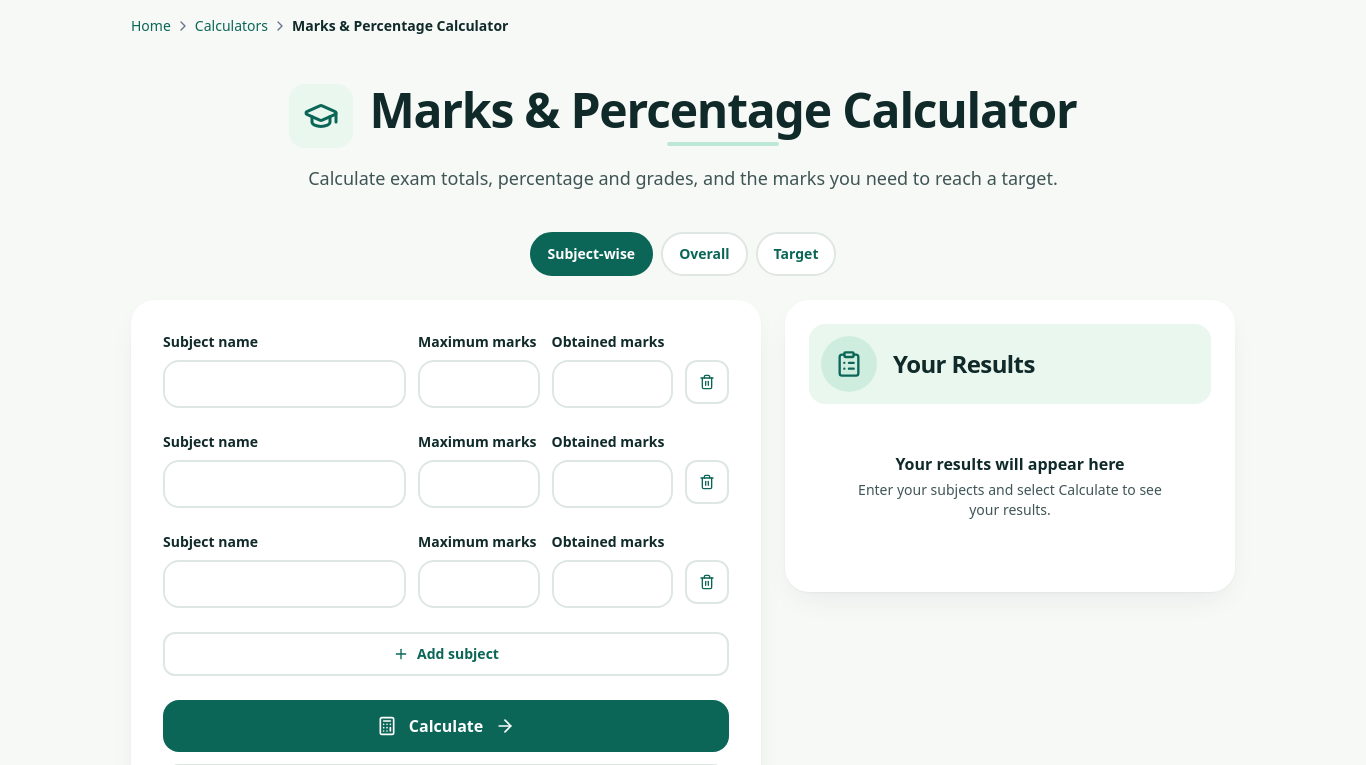
Scenario: subject-wise mode › updates results as marks change after calculating
Click the button named "Remove subject 3": [707, 582] box [685, 560, 729, 604]
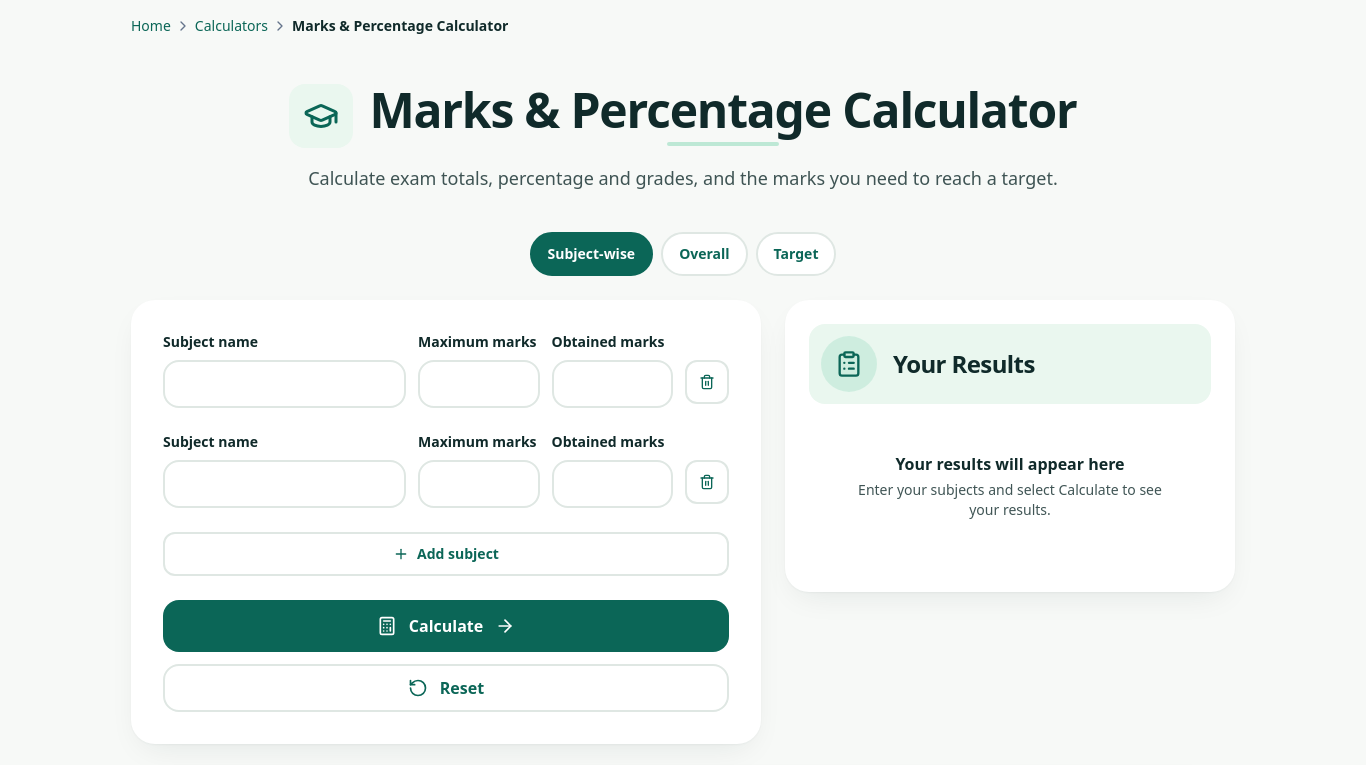
Click the button named "Remove subject 2": [707, 482] box [685, 460, 729, 504]
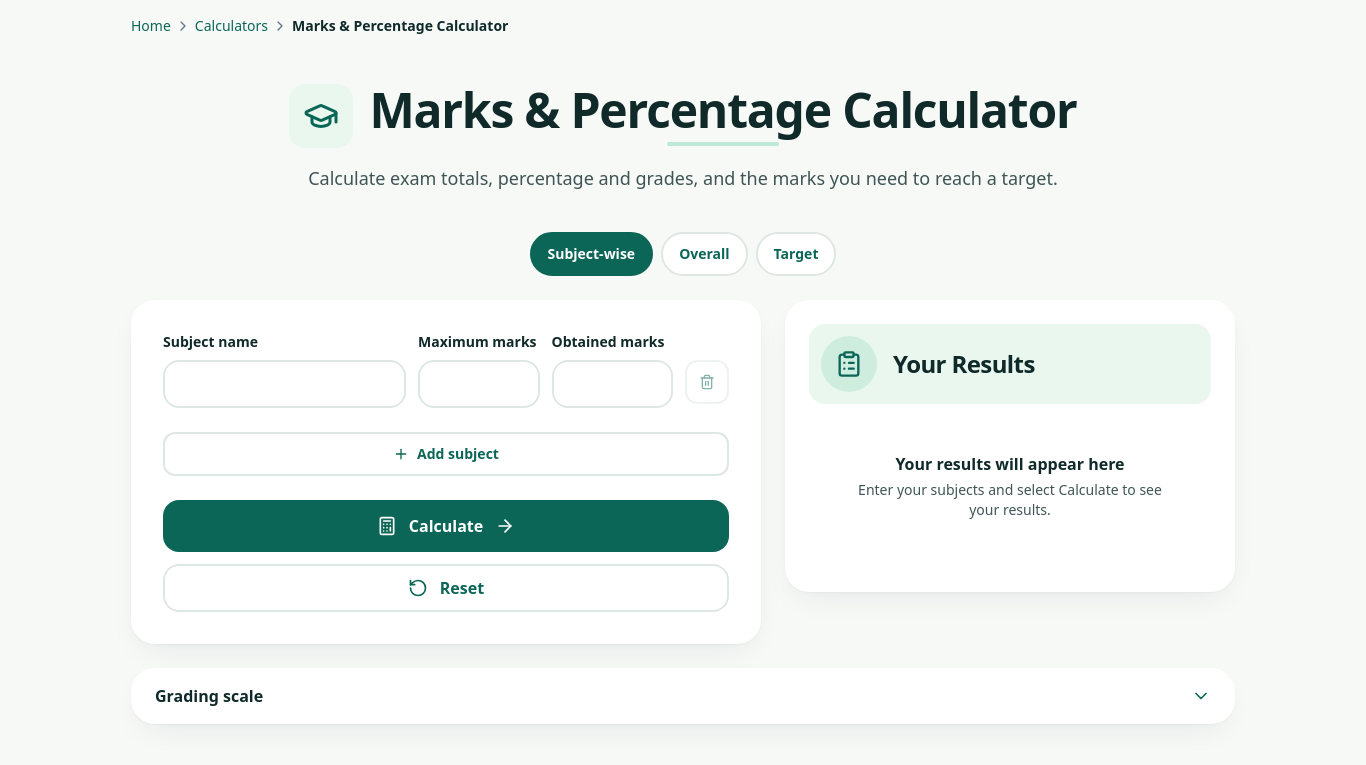
In the field named "Subject 1 Subject name": [284, 384] box [163, 360, 406, 408], type "Maths"
In the field named "Subject 1 Maximum marks": [479, 384] box [418, 360, 540, 408], type "100"
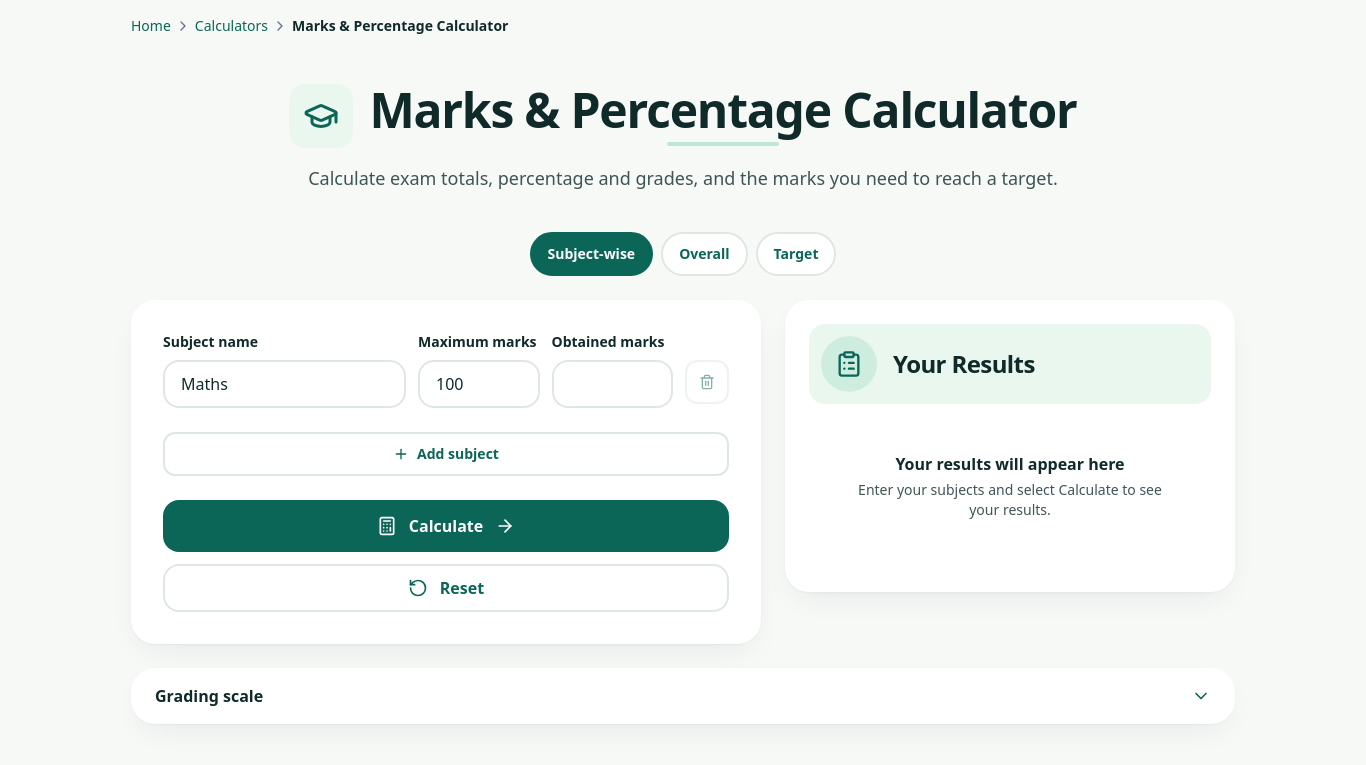
In the field named "Subject 1 Obtained marks": [612, 384] box [552, 360, 673, 408], type "50"
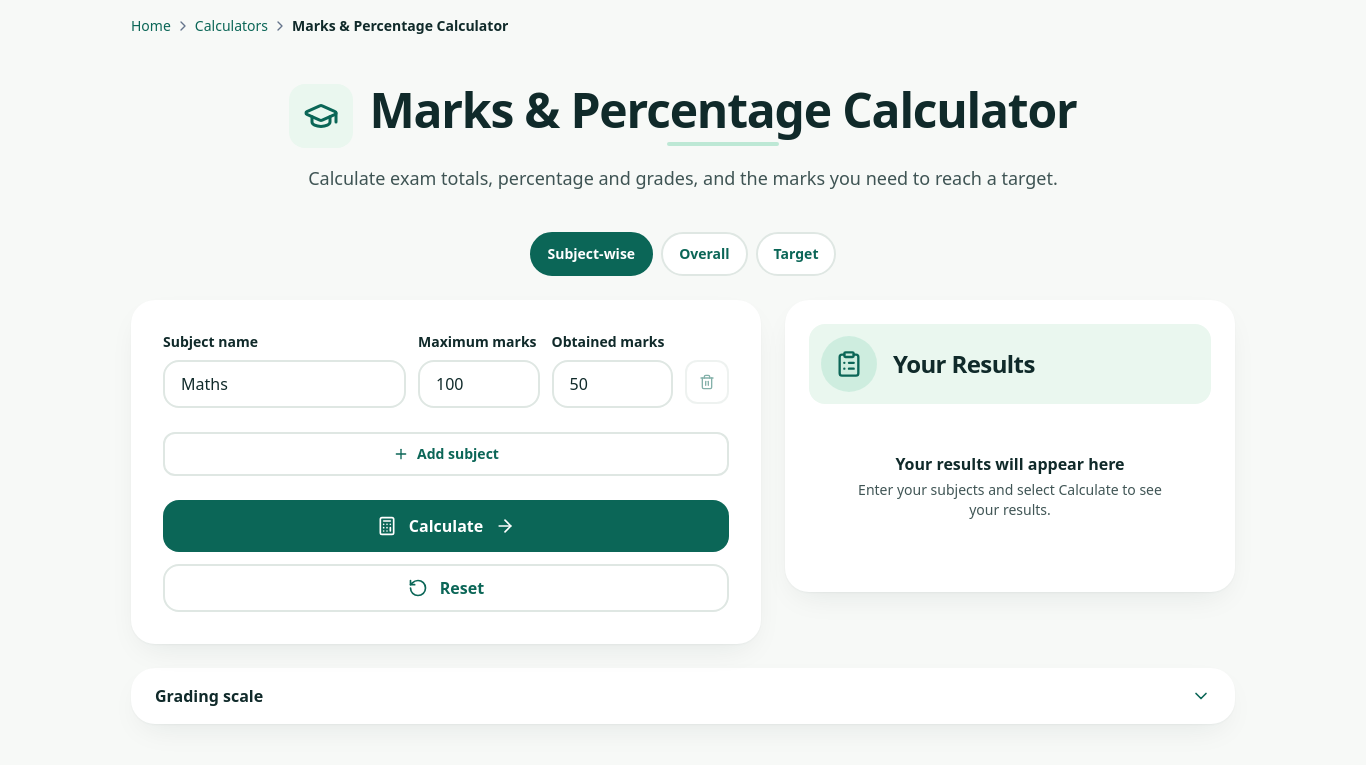
Click the button "Calculate": [446, 526] box [163, 500, 729, 552]
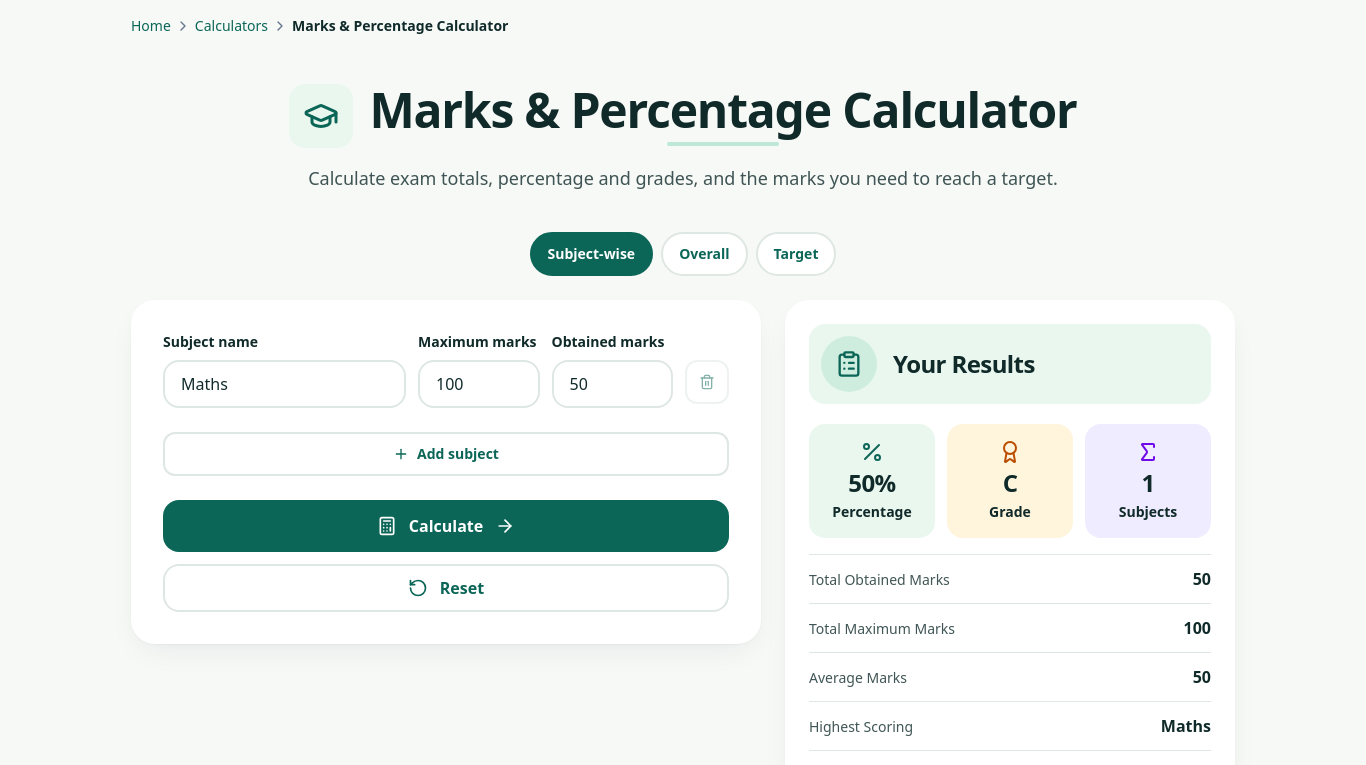
Now the text "50%" is shown, box [848, 466, 896, 499]
Replace the text in the field named "Subject 1 Obtained marks" with "60": [612, 384] box [552, 360, 673, 408]
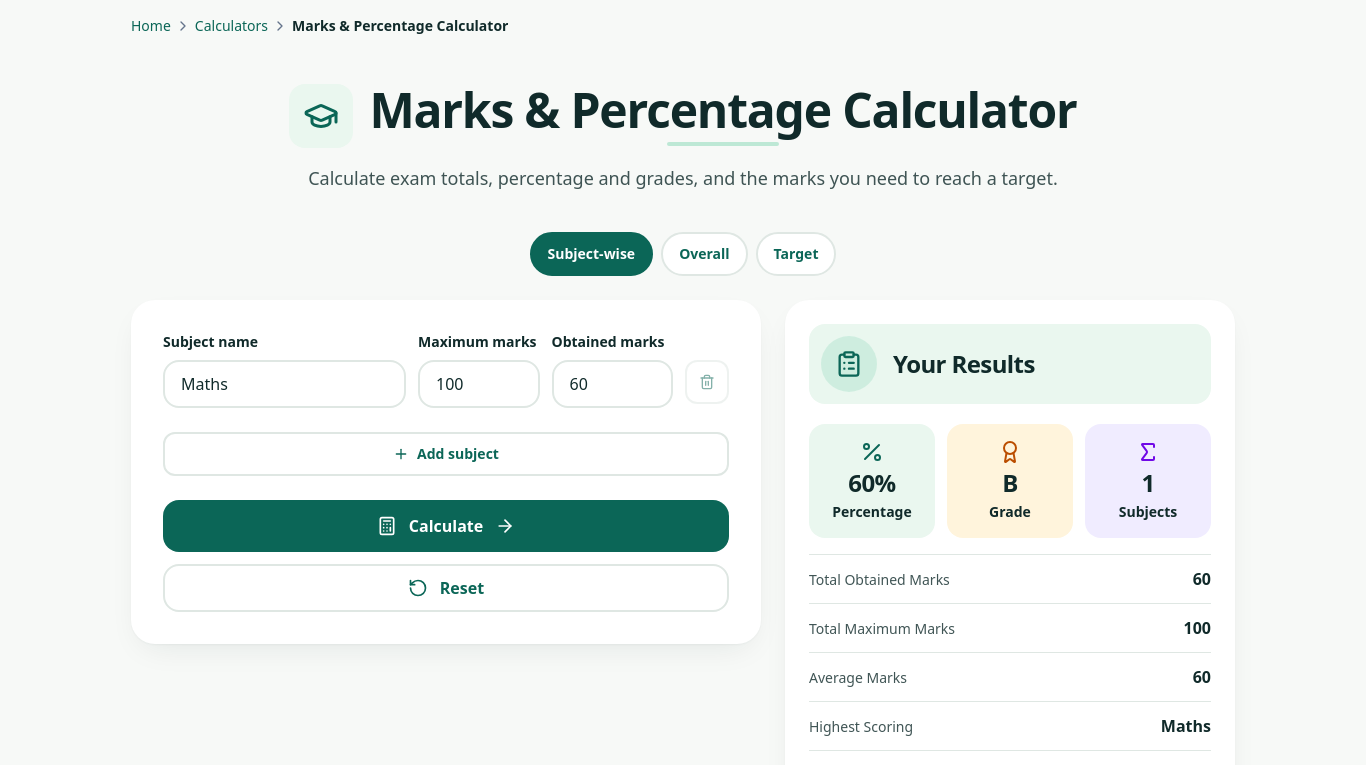
Now the text "60%" is shown, box [848, 466, 896, 499]
